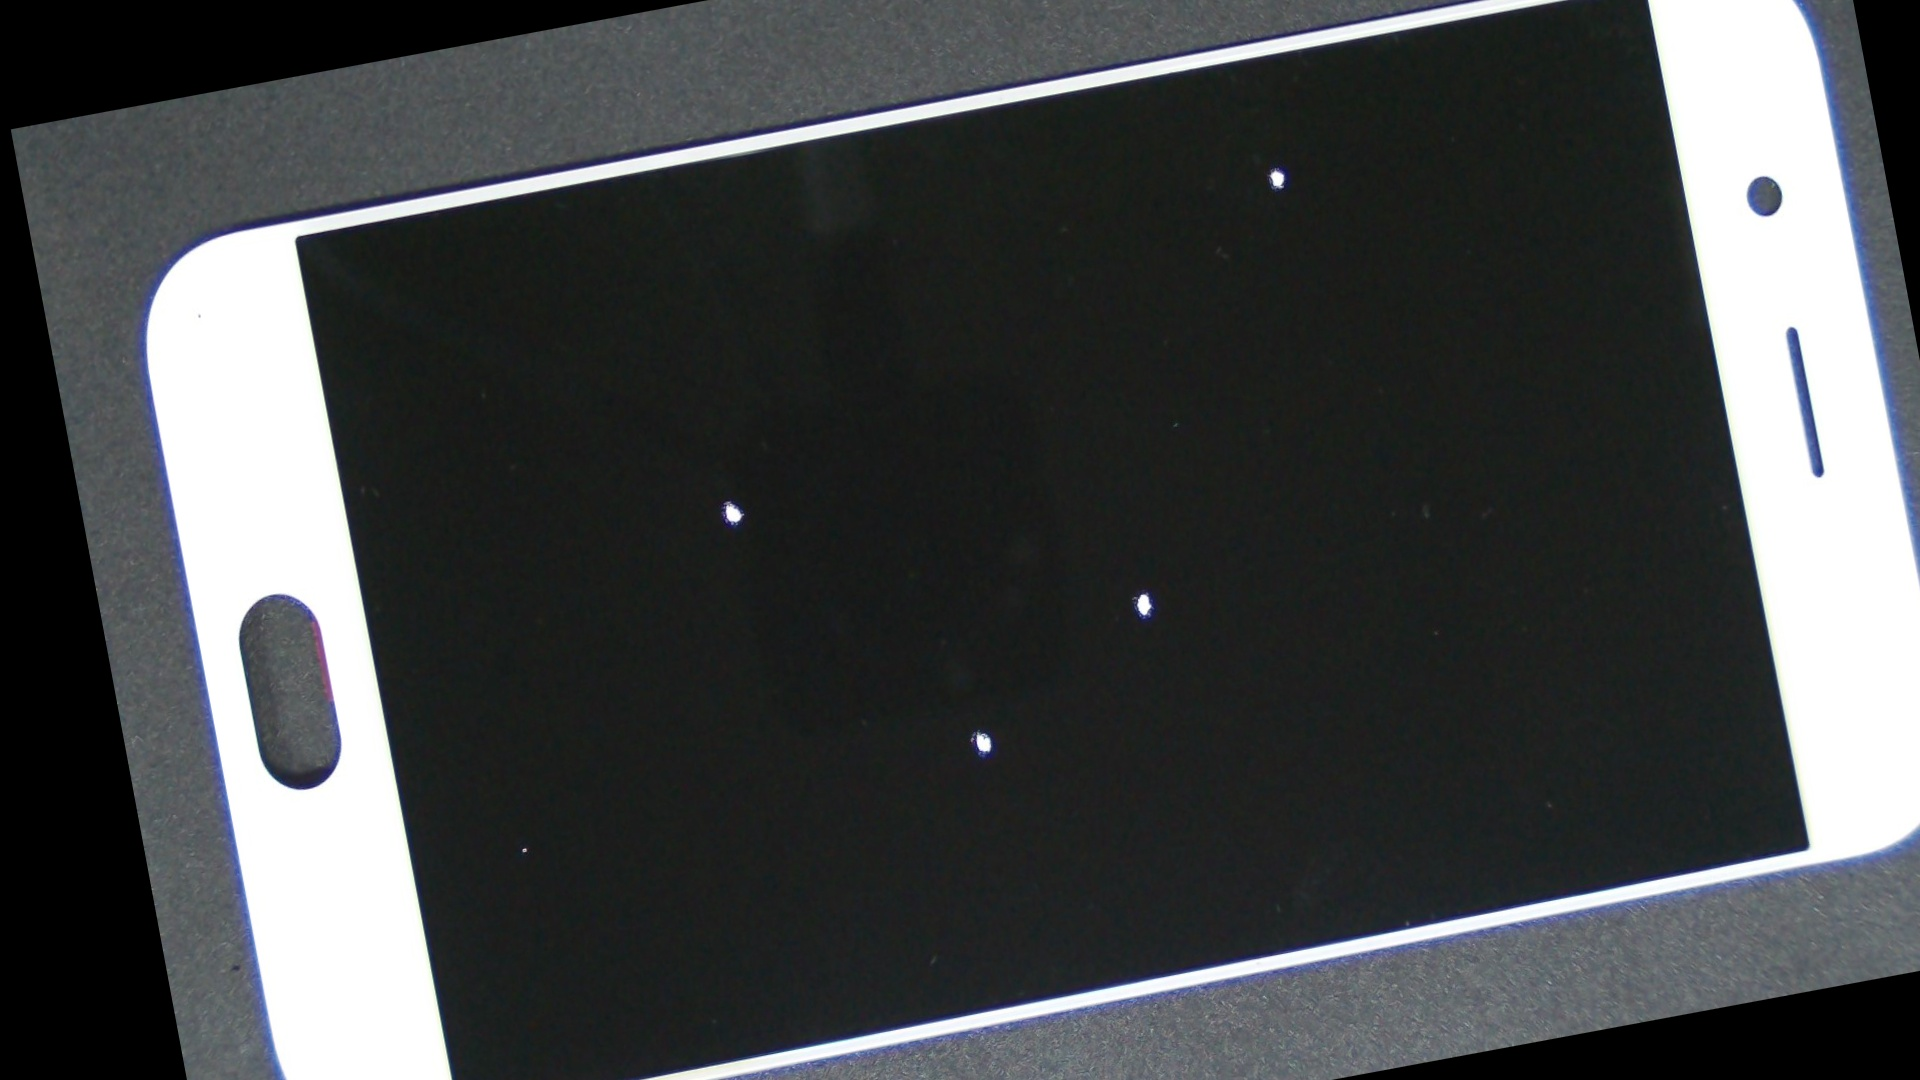oil: (576, 173, 1708, 1010), (495, 276, 1460, 1080), (644, 0, 1888, 410), (369, 198, 1083, 800)
